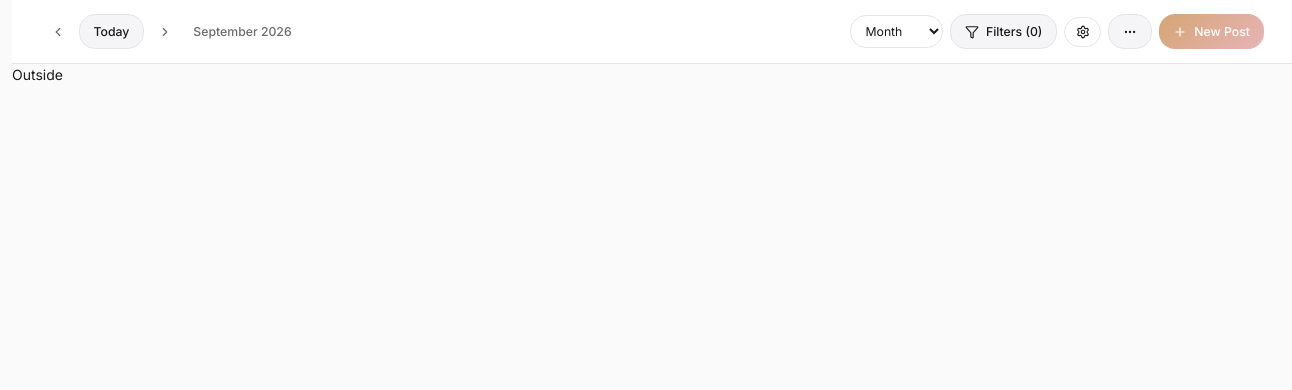
CalendarToolbar filters › does not show unconnected platforms: Loading platforms…
Click the button "Filters (0)" at (1004, 32), box [950,14,1057,49]
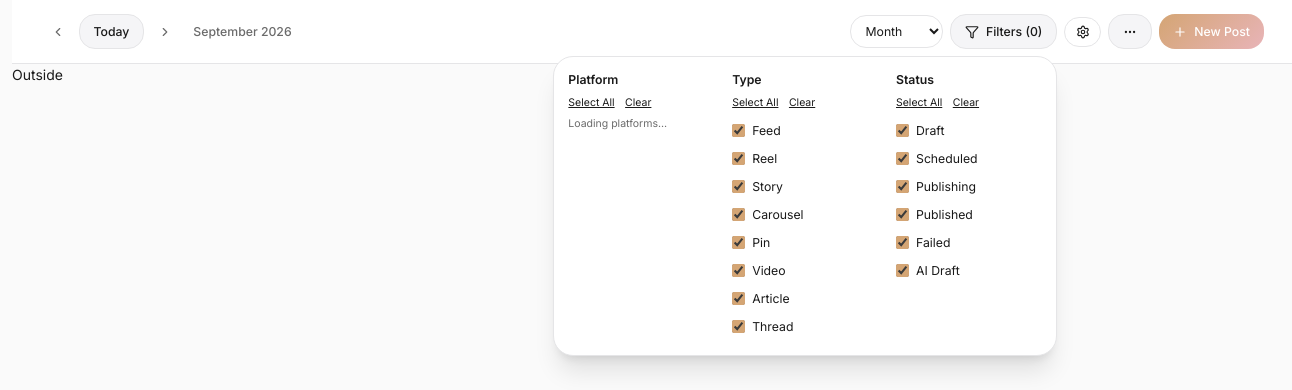
Check: the text "Loading platforms…" is shown, box [568,116,667,130]
